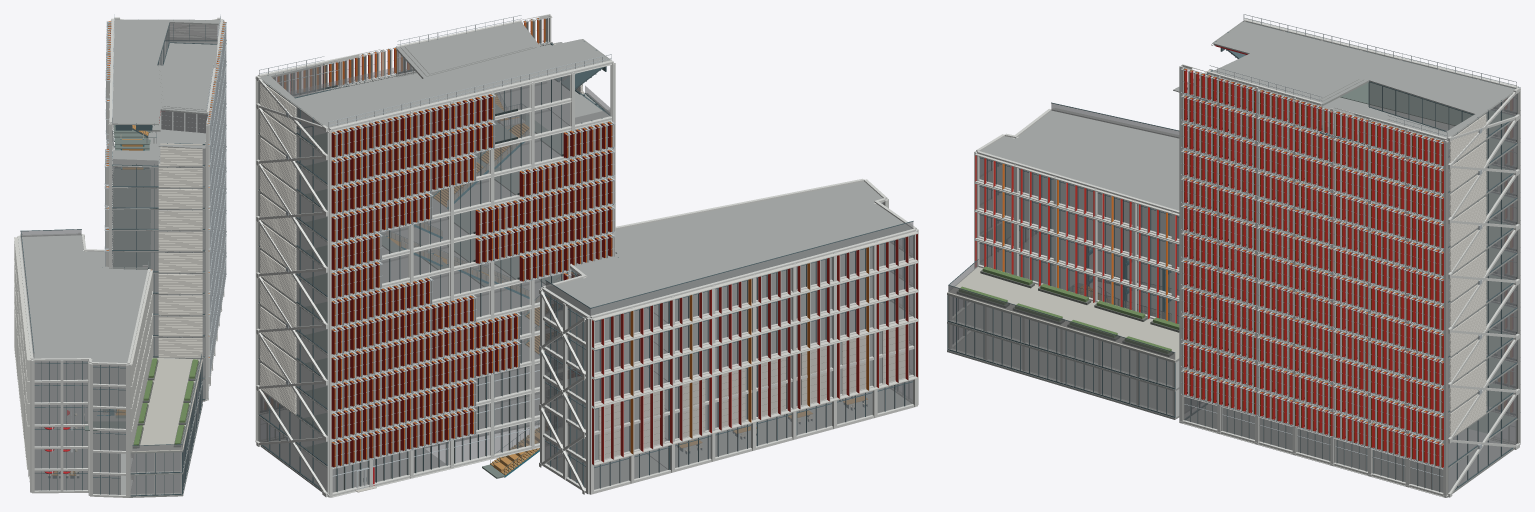
Rendered from cbg-exterior-2336a8323e95.glb.
3 renders of one model, left to right at view 1: azimuth 30°, elevation 25°; view 2: azimuth 150°, elevation 25°; view 3: azimuth 270°, elevation 25°, orthographic. The views are drawn at different scales.
Parts seen in each view (by area): view 1: CBG.001; view 2: CBG.001; view 3: CBG.001.
Part boxes in pixels (x1,y1,x2,y2): CBG.001: [14, 14, 226, 497]; CBG.001: [255, 14, 918, 497]; CBG.001: [947, 14, 1520, 497].
Bounding box in the file's own units: 69.13 × 57.77 × 76.15.
